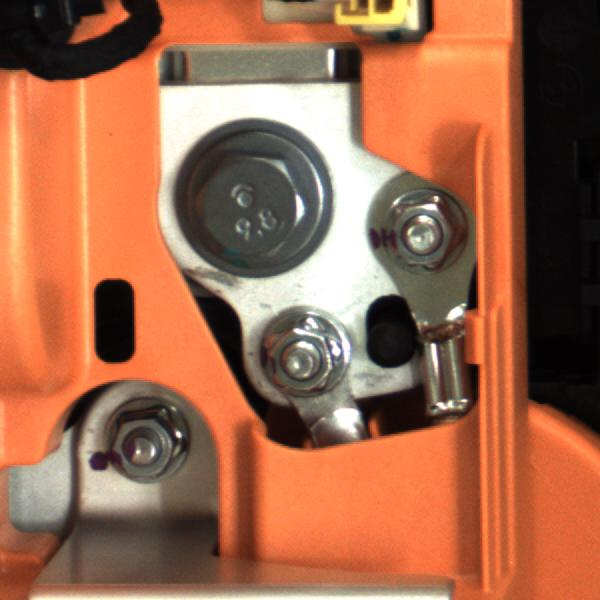nut_b: (165, 125, 332, 277)
screw_s: (255, 309, 361, 406), (94, 408, 198, 483), (373, 196, 475, 265)
